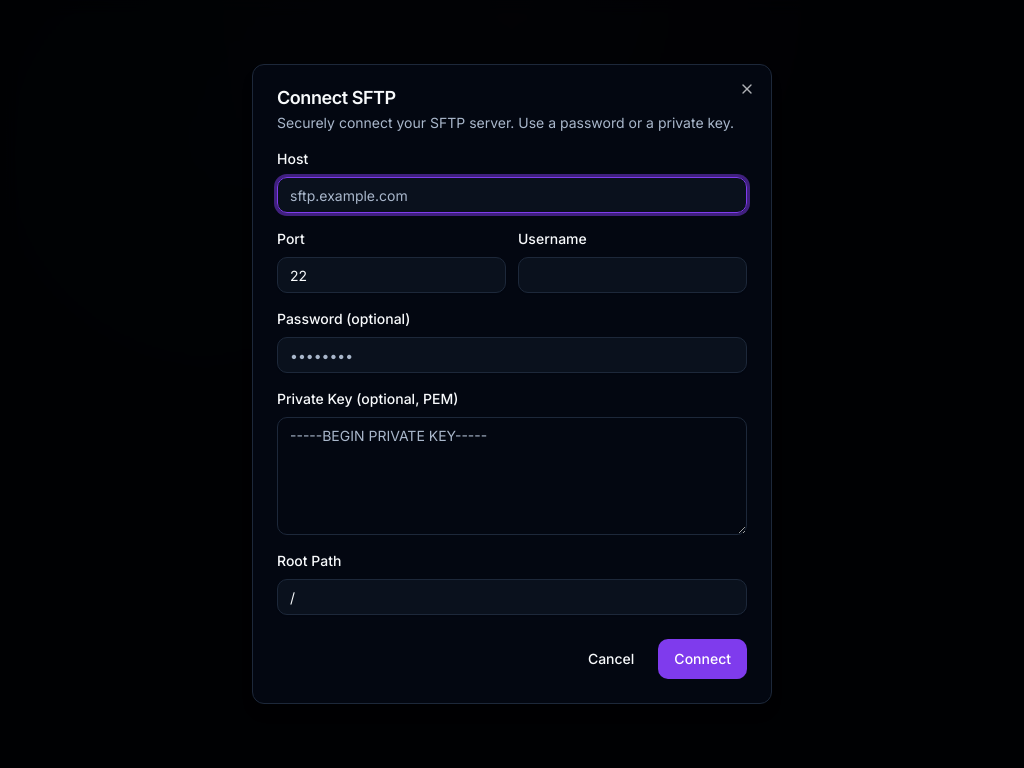
Test: SftpConnectModal Component › Validation › should show error when neither password nor private key is provided
The width and height of the screenshot is (1024, 768).
Fill host and username
Type "my-server.com" into the field with placeholder "sftp.example.com" at (512, 195), box [277, 177, 747, 213]
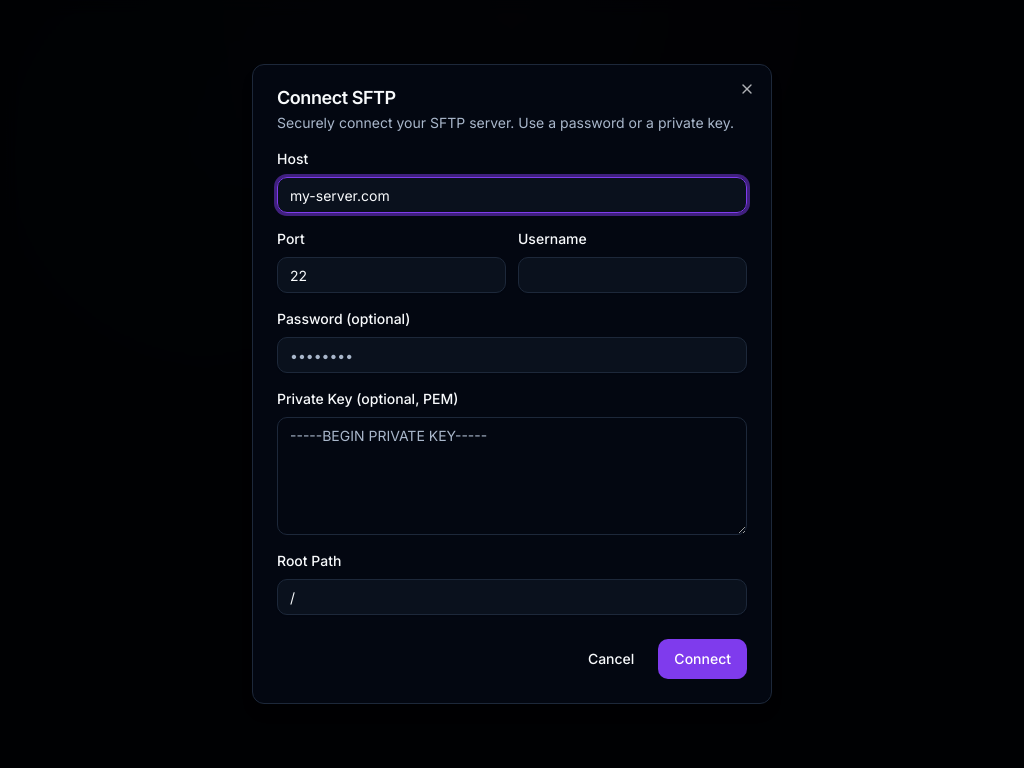
Type "testuser" into the field below "Username" at (632, 275), box [518, 257, 747, 293]
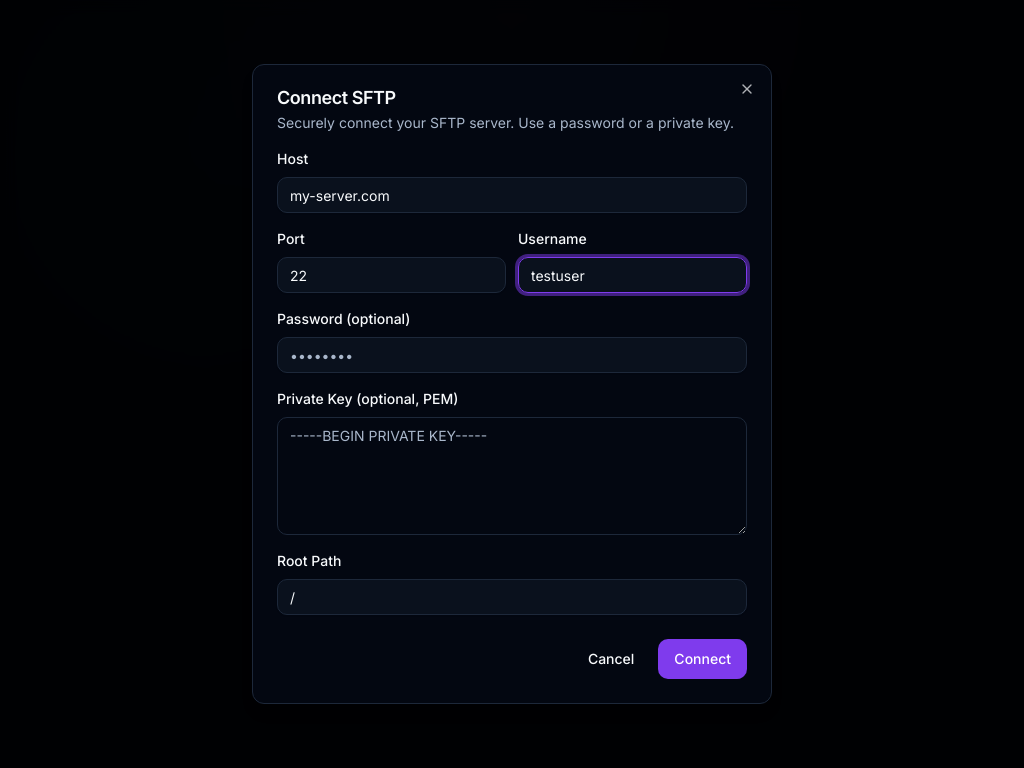
Submit without password or key
Click the button "Connect" at (703, 659), box [658, 639, 747, 679]
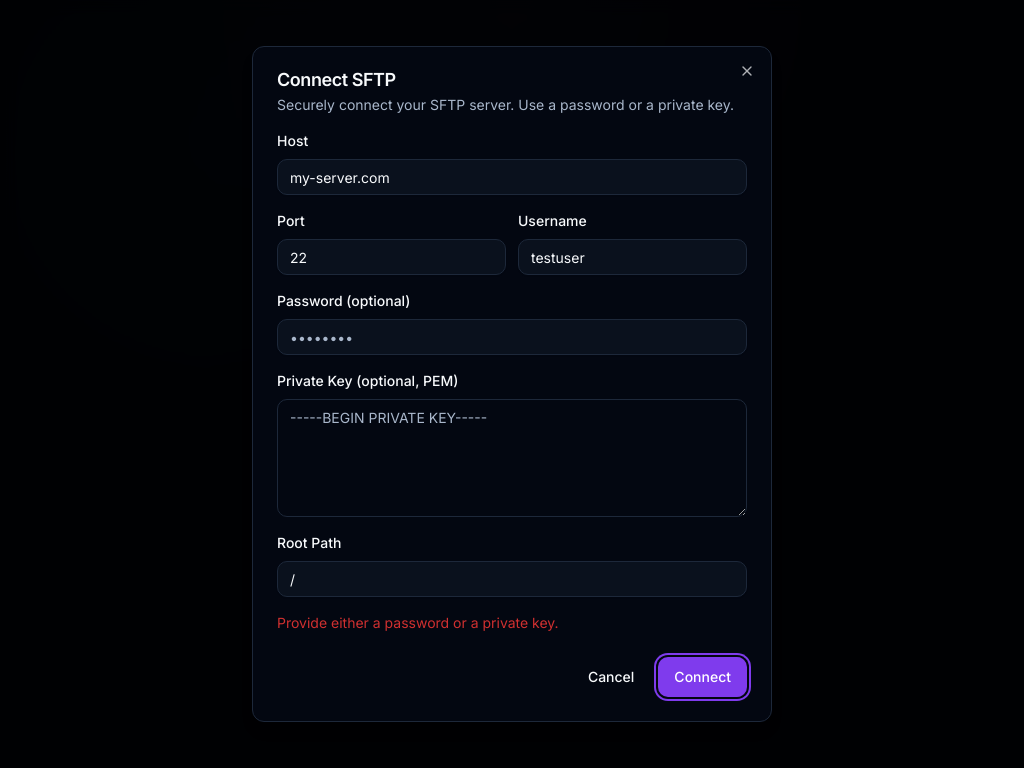
Result: the text "Provide either a password or a private key." is shown at [277, 614, 559, 631]
